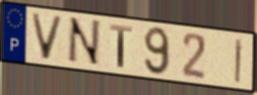2: (181, 32, 208, 81)
9: (142, 25, 173, 77)
I: (233, 37, 245, 85)
N: (65, 16, 102, 68)
T: (108, 22, 134, 70)
V: (28, 11, 66, 62)
